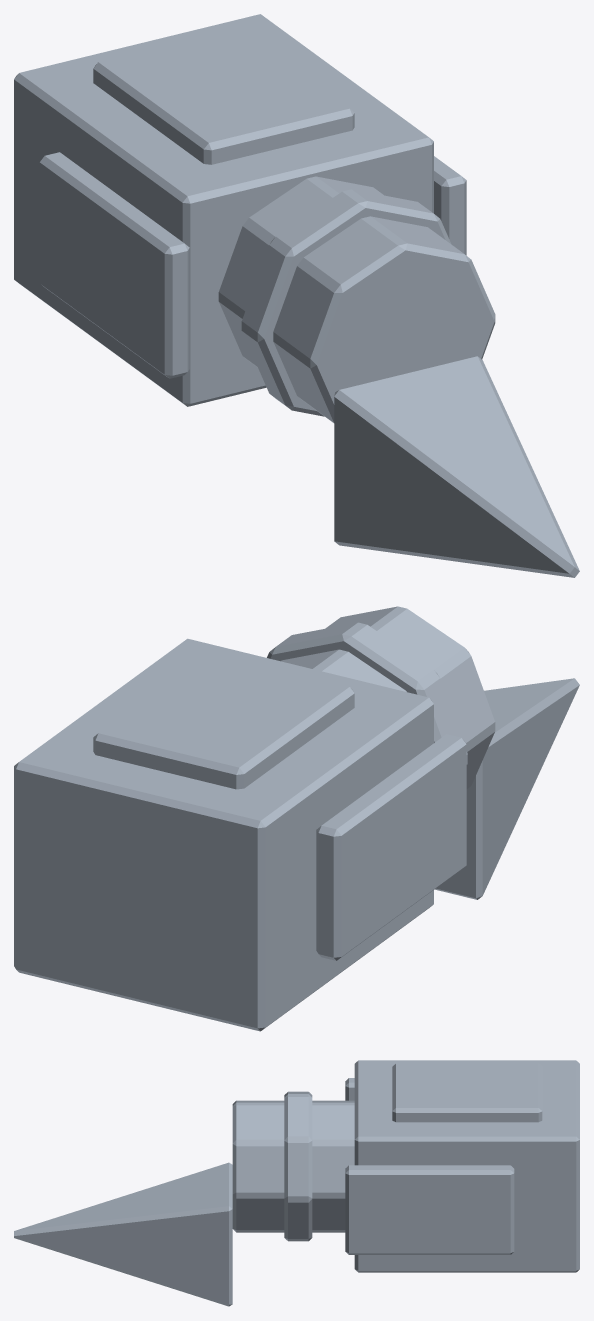
File: Weapon_Pierce.fbx
3 views of the same model, one above another, from view 1: azimuth 30°, elevation 25°; view 2: azimuth 150°, elevation 25°; view 3: azimuth 270°, elevation 25° (orthographic). The views are drawn at different scales.
Parts seen in each view (by area): view 1: Weapon_Pierce; view 2: Weapon_Pierce; view 3: Weapon_Pierce.
Boxes of the visible parts, x1,y1,x2,y2 form: Weapon_Pierce: [14, 14, 579, 577]; Weapon_Pierce: [14, 606, 579, 1031]; Weapon_Pierce: [14, 1060, 579, 1306].
Size of the model in its own units: 24 by 23.41 by 60.29.
